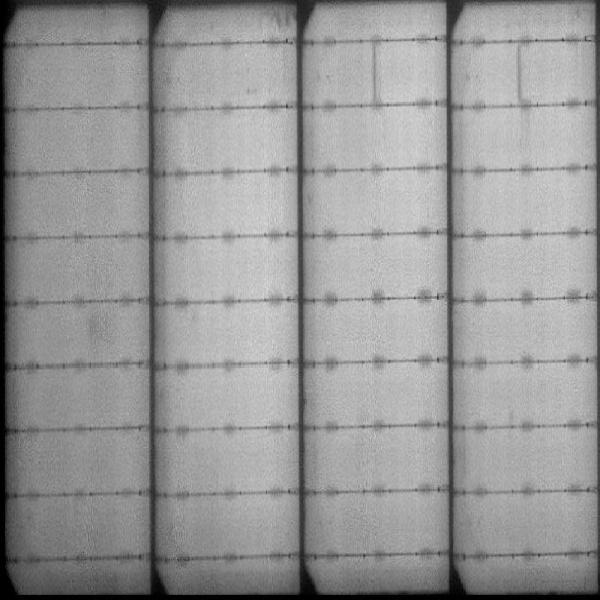scratch: (368, 42, 389, 105), (513, 42, 527, 108)
